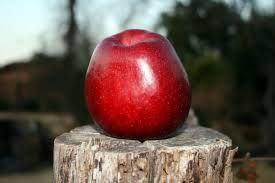Apple: (84, 29, 192, 139)
